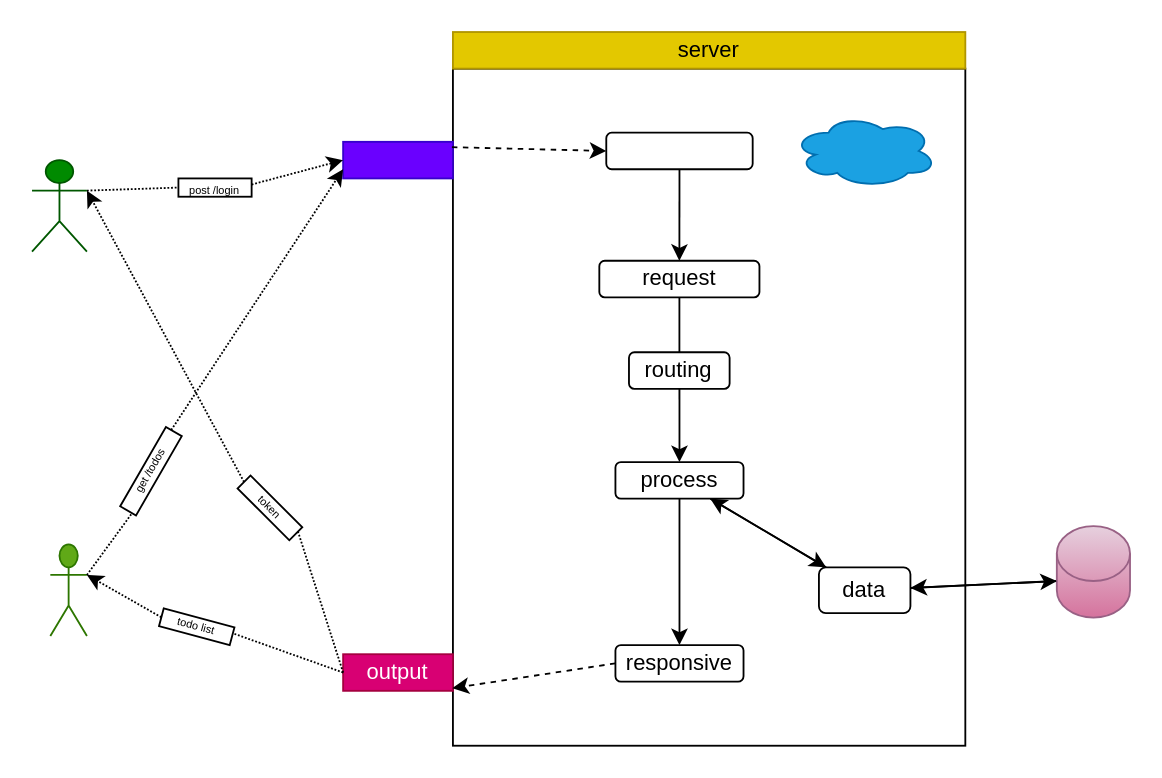
Some shapes in this 1162 by 778 pixel diagram are drawn without their labels. The shapes that lost their labels are listed below. From the top down, each one's centre as x and y in pixels, then its label:
At (x=397, y=159): "input".
At (x=678, y=150): "controllers".
At (x=864, y=150): "stores".
At (x=1092, y=571): "db".
